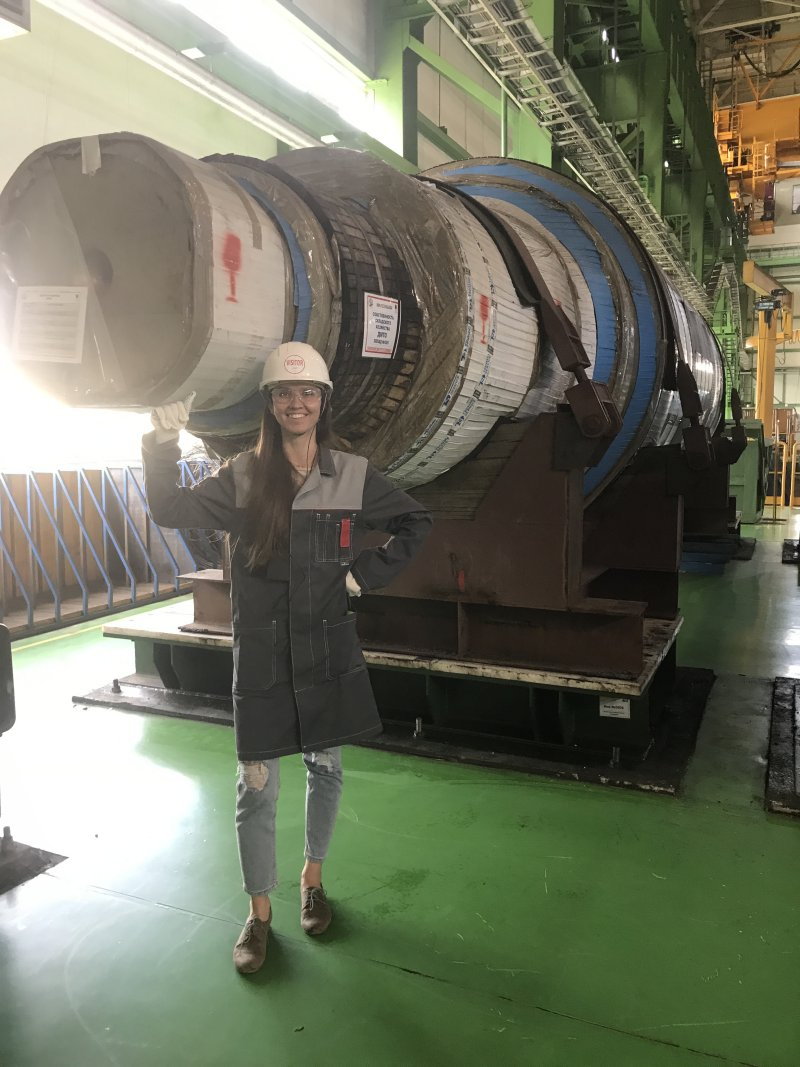person: (144, 341, 436, 979)
